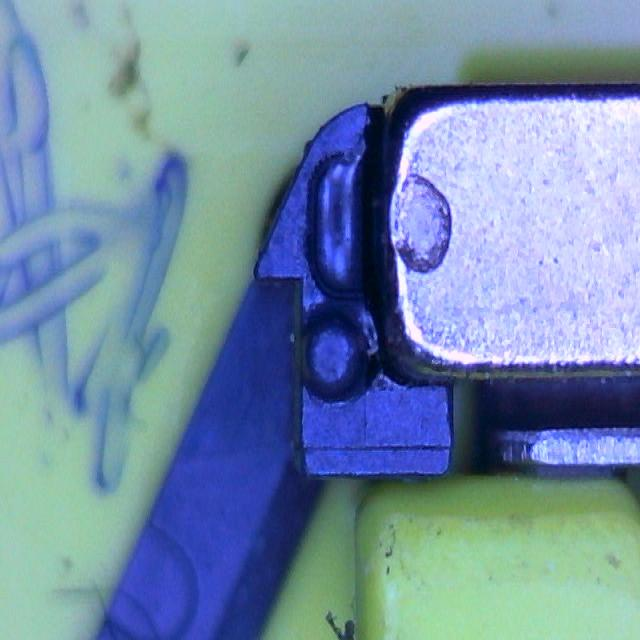over: (306, 150, 382, 306)
